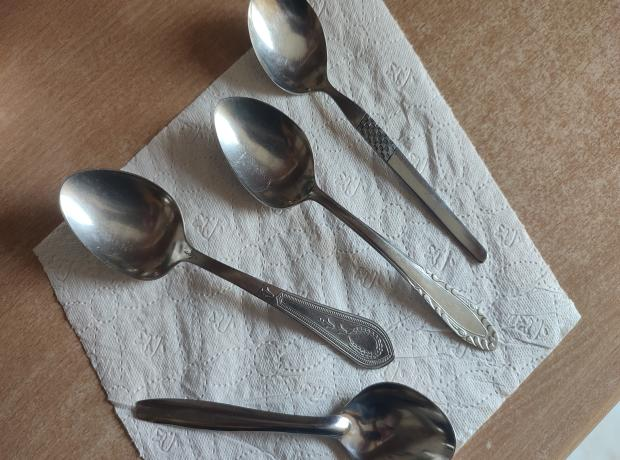metal: (212, 97, 498, 352), (59, 169, 395, 370), (248, 0, 487, 264), (136, 381, 457, 460)
